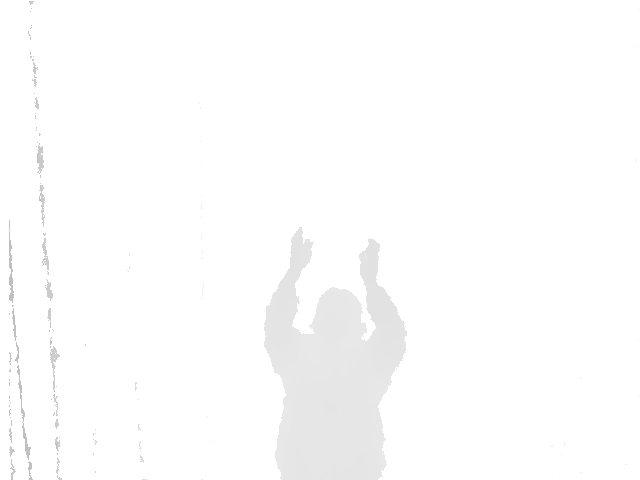hand: (286, 225, 316, 278), (356, 236, 383, 289)
head: (311, 288, 365, 352)
person: (260, 225, 408, 480)
